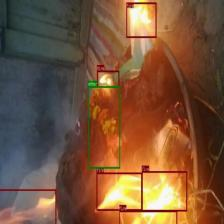fire: (0, 188, 56, 224), (142, 171, 187, 211), (96, 172, 142, 210), (126, 3, 156, 38), (118, 210, 177, 224), (96, 71, 120, 88)
